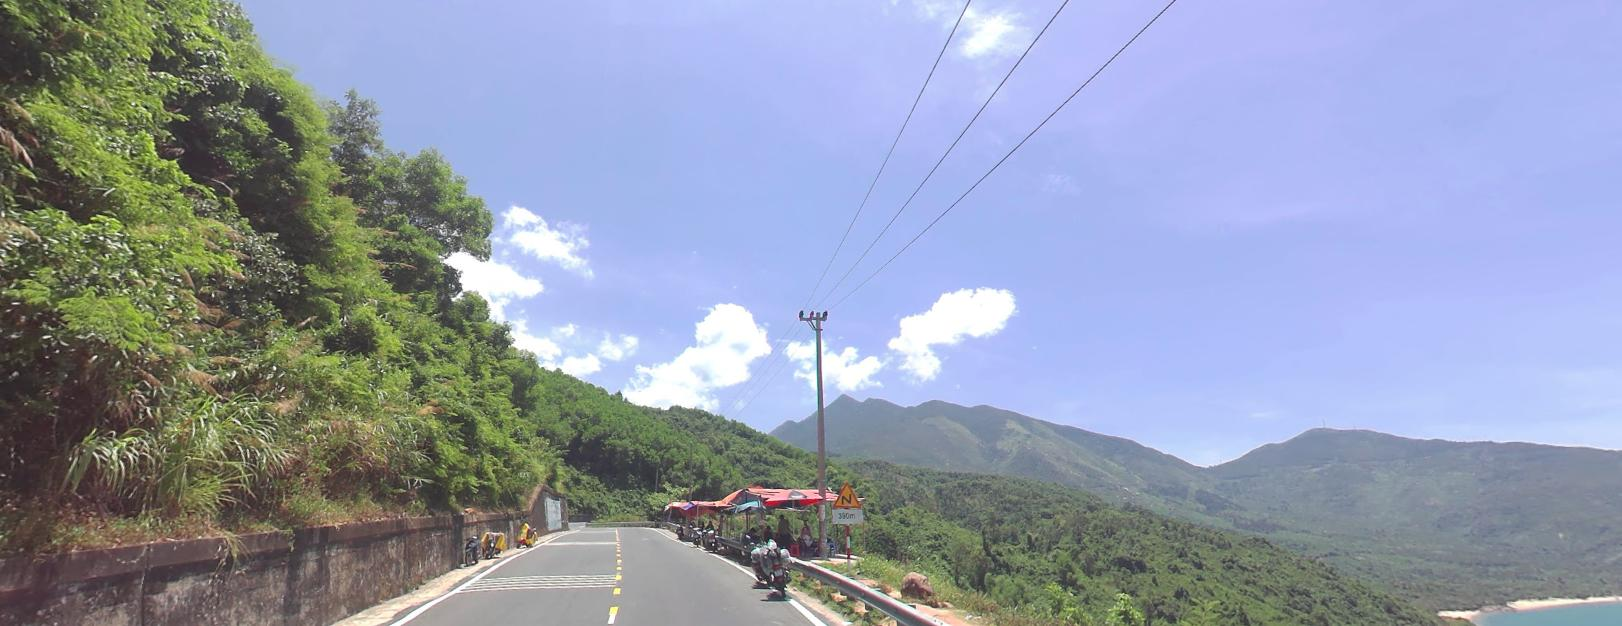Nguy hiem: (831, 478, 861, 509)
